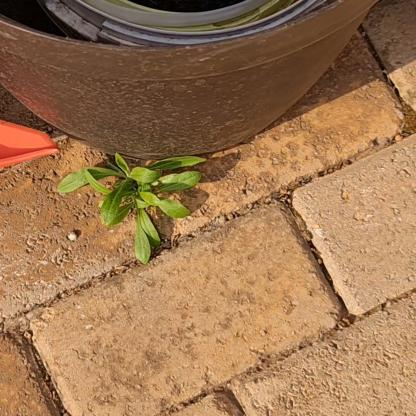Weeds: (56, 154, 207, 266)
